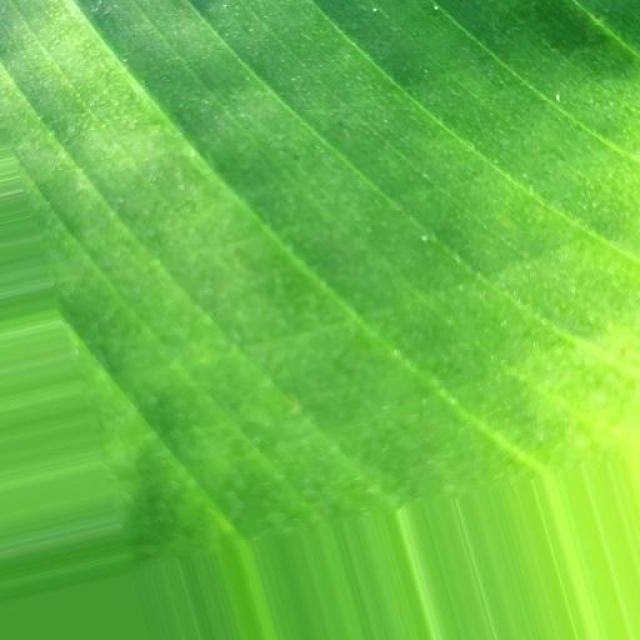Black_leaf_spot: (8, 0, 612, 509)
